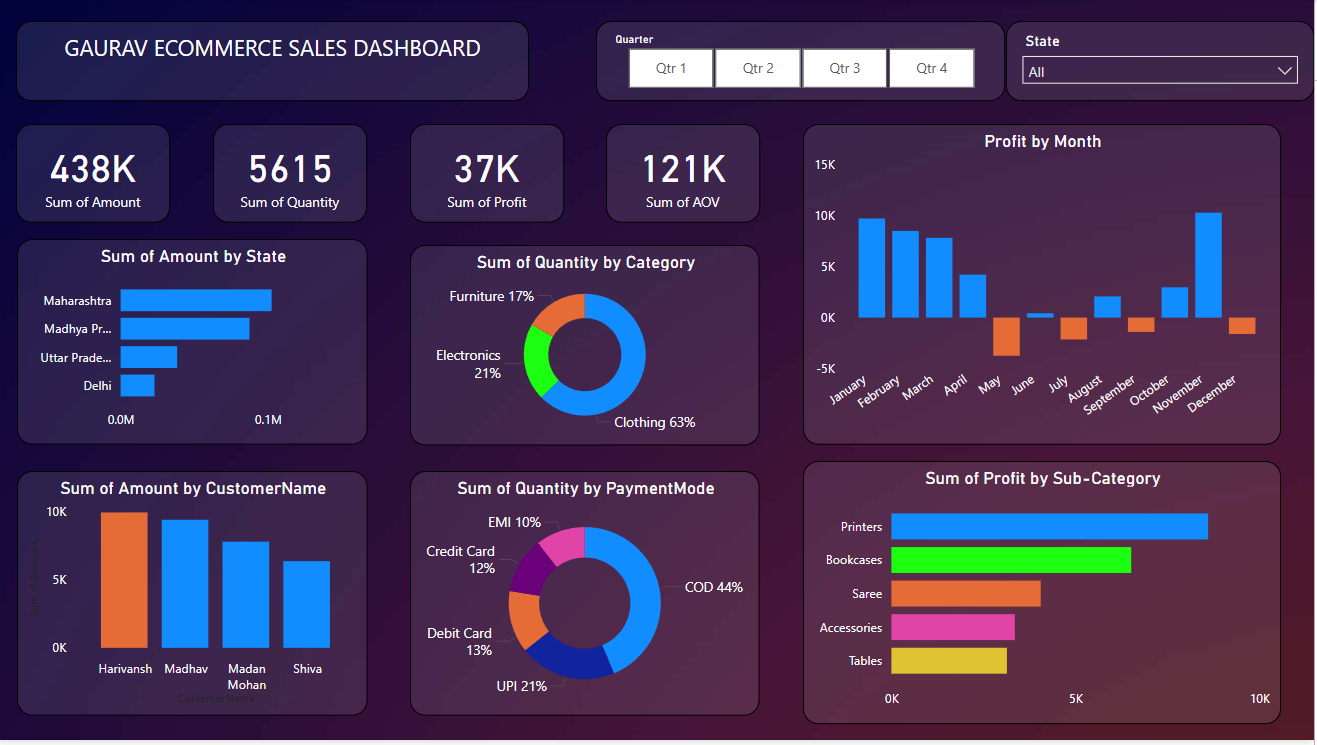

The dashboard page shown, as its layout file describes it:
{"tool":"powerbi","page":{"name":"Page 1","canvas":[1280,720],"ordinal":0},"visuals":[{"type":"textbox","box":[17.5,44.7,451.3,53.5],"z":0},{"type":"columnChart","title":"Profit by Month","fields":{"Y":["Sum(Details.Profit)"],"Category":["Orders.Order Date.Variation.Date Hierarchy.Month"]},"box":[783,131.3,464.9,282.1],"z":1000},{"type":"barChart","fields":{"Y":["Sum(Details.Profit)"],"Category":["Details.Sub-Category"]},"box":[783,440.6,464.9,255.8],"z":2000},{"type":"donutChart","fields":{"Category":["Details.Category"],"Y":["Sum(Details.Quantity)"]},"box":[400.7,255.8,340.4,184.8],"z":3000},{"type":"donutChart","fields":{"Y":["Sum(Details.Quantity)"],"Category":["Details.PaymentMode"]},"box":[400.7,458.1,340.4,238.3],"z":4000},{"type":"card","fields":{"Values":["Sum(Details.Amount)"]},"box":[17.5,120.6,149.8,96.3],"z":5000},{"type":"card","fields":{"Values":["Sum(Details.Quantity)"]},"box":[209.1,120.6,149.8,96.3],"z":6000},{"type":"card","fields":{"Values":["Sum(Details.Profit)"]},"box":[400.7,120.6,149.8,96.3],"z":7000},{"type":"card","fields":{"Values":["Sum(Details.AOV)"]},"box":[591.4,120.6,149.8,96.3],"z":8000},{"type":"barChart","fields":{"Category":["Orders.State"],"Y":["Sum(Details.Amount)"]},"box":[17.5,245.1,341.4,195.5],"z":9000},{"type":"columnChart","fields":{"Category":["Orders.CustomerName"],"Y":["Sum(Details.Amount)"]},"box":[18,458,341,238],"z":10000},{"type":"slicer","fields":{"Values":["Orders.Order Date.Variation.Date Hierarchy.Quarter"]},"box":[581.6,20.4,397.8,89.5],"z":11000},{"type":"slicer","fields":{"Values":["Orders.State"]},"box":[980.4,20.4,299.6,77.8],"z":12000}]}

Visuals, with their boxes in screenshot pixels (x1, y1, x2, y2), scaled from the page's 1280x720 canvas onto the 1317x745 screenshot:
textbox: x1=18, y1=46, x2=482, y2=102
"Profit by Month" columnChart: x1=806, y1=136, x2=1284, y2=428
barChart - Sum(Details.Profit) x Details.Sub-Category: x1=806, y1=456, x2=1284, y2=721
donutChart - Details.Category x Sum(Details.Quantity): x1=412, y1=265, x2=763, y2=456
donutChart - Sum(Details.Quantity) x Details.PaymentMode: x1=412, y1=474, x2=763, y2=721
card - Sum(Details.Amount): x1=18, y1=125, x2=172, y2=224
card - Sum(Details.Quantity): x1=215, y1=125, x2=369, y2=224
card - Sum(Details.Profit): x1=412, y1=125, x2=566, y2=224
card - Sum(Details.AOV): x1=608, y1=125, x2=763, y2=224
barChart - Orders.State x Sum(Details.Amount): x1=18, y1=254, x2=369, y2=456
columnChart - Orders.CustomerName x Sum(Details.Amount): x1=19, y1=474, x2=369, y2=720
slicer - Orders.Order Date.Variation.Date Hierarchy.Quarter: x1=598, y1=21, x2=1008, y2=114
slicer - Orders.State: x1=1009, y1=21, x2=1316, y2=102
